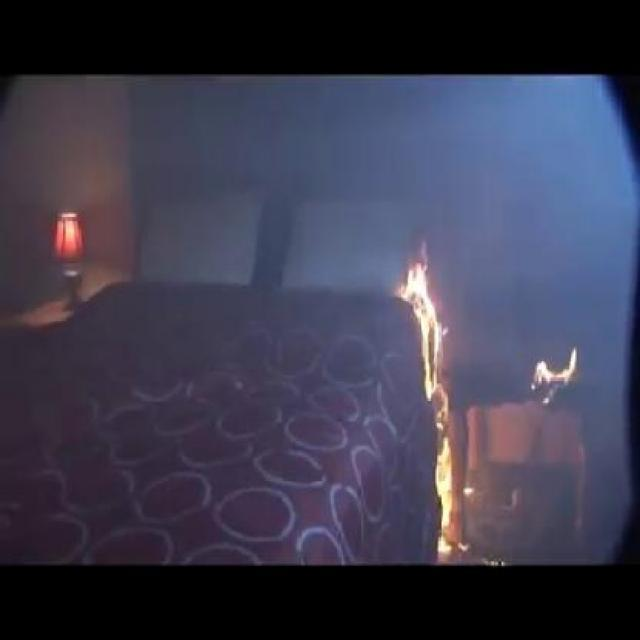fire: (379, 250, 527, 546), (526, 334, 586, 406)
